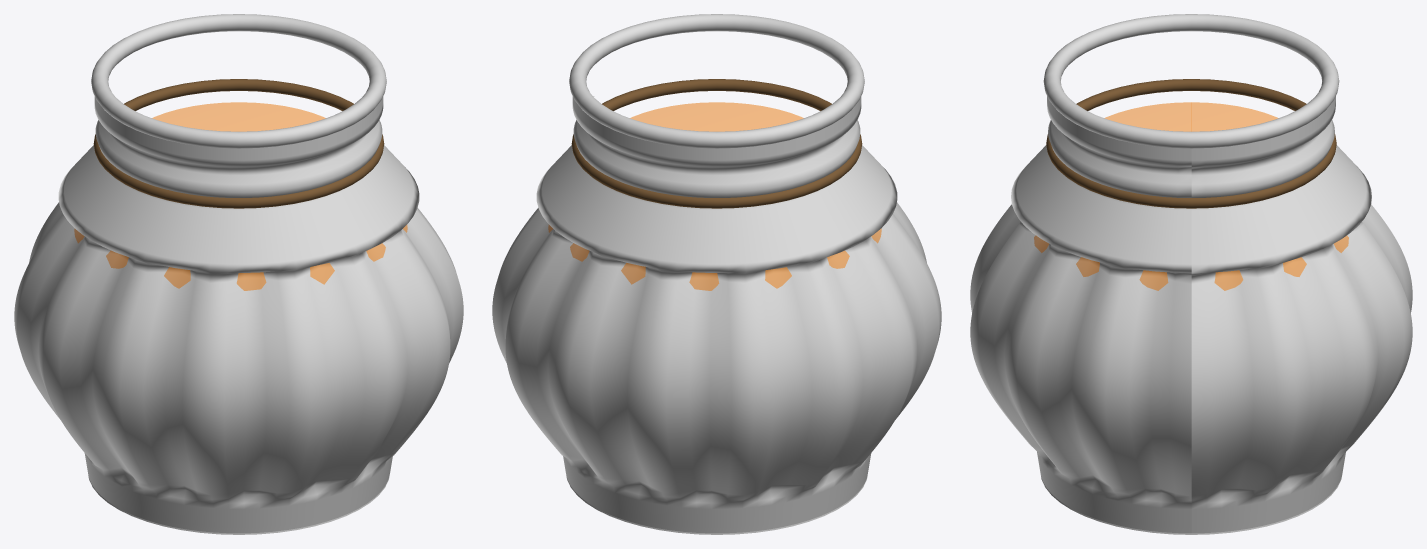
File: honey_jar_vintage.glb
3 views of the same model, side by side, from view 1: azimuth 30°, elevation 25°; view 2: azimuth 150°, elevation 25°; view 3: azimuth 270°, elevation 25° (orthographic).
Parts seen in each view (by area): view 1: GlassJarShell, HoneyJarVintage, HoneyCore; view 2: GlassJarShell, HoneyJarVintage, HoneyCore; view 3: GlassJarShell, HoneyJarVintage, HoneyCore.
Boxes of the visible parts, x1=… form: GlassJarShell: x1=14, y1=96, x2=463, y2=533; HoneyJarVintage: x1=88, y1=14, x2=389, y2=534; HoneyCore: x1=74, y1=102, x2=407, y2=290; GlassJarShell: x1=492, y1=96, x2=941, y2=533; HoneyJarVintage: x1=566, y1=14, x2=867, y2=534; HoneyCore: x1=548, y1=102, x2=881, y2=290; GlassJarShell: x1=970, y1=96, x2=1412, y2=533; HoneyJarVintage: x1=1041, y1=14, x2=1341, y2=534; HoneyCore: x1=1034, y1=102, x2=1348, y2=290.
Size of the model in its own units: 2.63 by 2.55 by 2.57.
